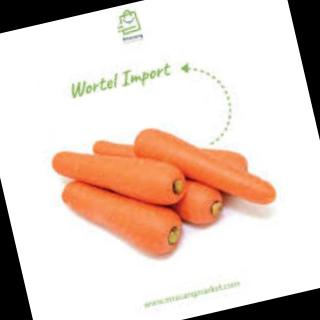Wortel: (123, 101, 282, 236), (57, 157, 191, 277), (47, 124, 194, 232)
